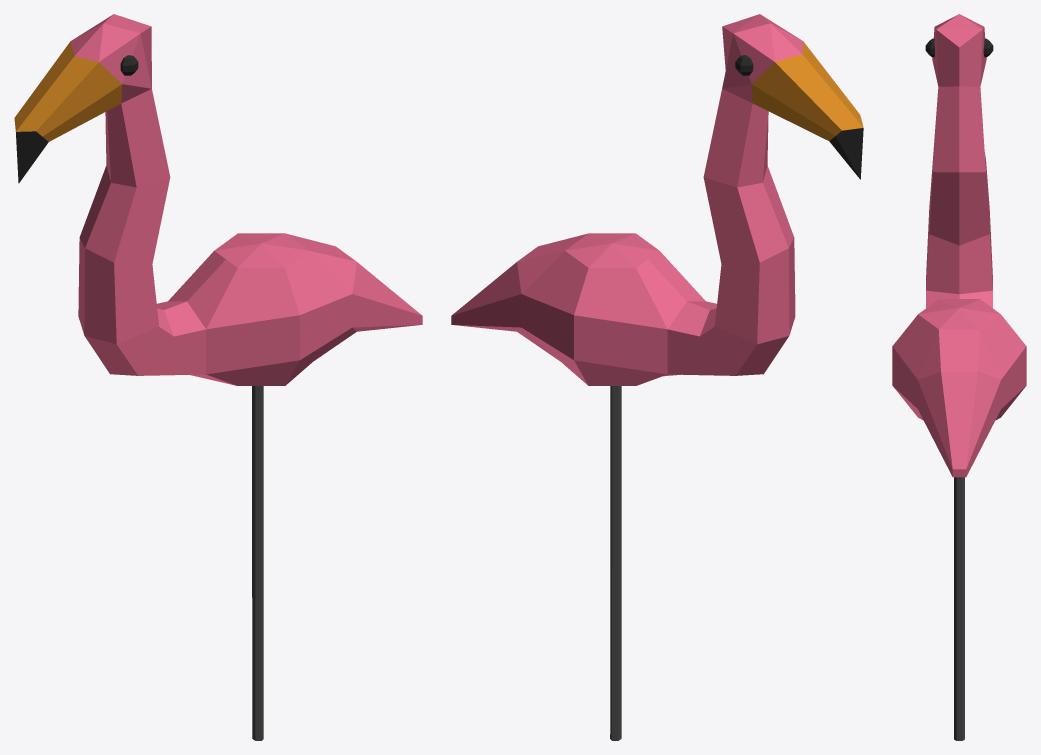
The model's file is Flamingo.fbx.
The picture shows the model from 3 angles, left to right: view 1: azimuth 30°, elevation 25°; view 2: azimuth 150°, elevation 25°; view 3: azimuth 270°, elevation 25°; orthographic projection. The views are drawn at different scales.
Visible parts, largest first — view 1: flamingo; view 2: flamingo; view 3: flamingo, eyes.
Boxes of the visible parts, x1,y1,x2,y2 form: flamingo: (14,14,422,740); flamingo: (451,14,863,740); flamingo: (892,14,1026,740); eyes: (925,38,993,57).
Size of the model in its own units: 419 by 744 by 137.
